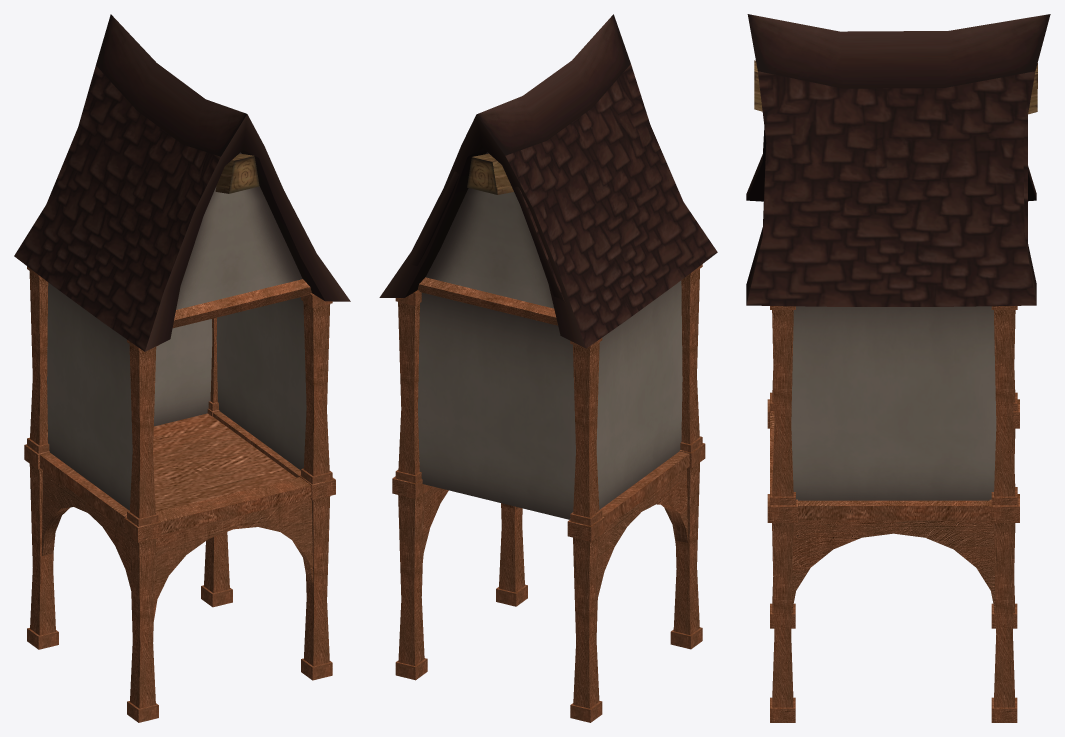
The model's file is fanasty_mod_winch_hanger.fbx.
3 views of the same model, side by side, from view 1: azimuth 30°, elevation 25°; view 2: azimuth 150°, elevation 25°; view 3: azimuth 270°, elevation 25° (orthographic). The views are drawn at different scales.
Parts seen in each view (by area): view 1: winch_hanger; view 2: winch_hanger; view 3: winch_hanger.
Boxes of the visible parts, x1=… form: winch_hanger: x1=14, y1=14, x2=350, y2=722; winch_hanger: x1=379, y1=14, x2=717, y2=722; winch_hanger: x1=746, y1=14, x2=1050, y2=722.
Size of the model in its own units: 3.85 by 10.56 by 4.43.
